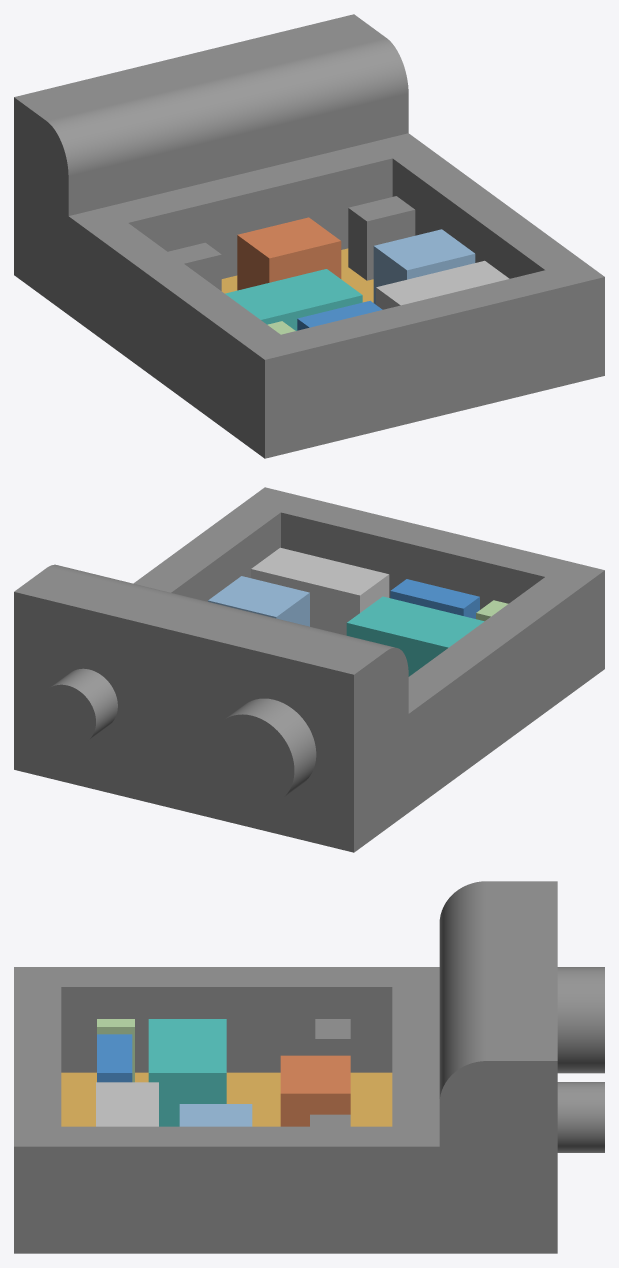
File: Control Panel.gltf
3 renders of one model, top to bottom at view 1: azimuth 30°, elevation 25°; view 2: azimuth 150°, elevation 25°; view 3: azimuth 270°, elevation 25°, orthographic. The views are drawn at different scales.
Visible parts, largest first — view 1: Part 1; view 2: Part 1; view 3: Part 1.
Part boxes in pixels (x1,y1,x2,y2): Part 1: [14, 14, 604, 458]; Part 1: [14, 487, 604, 852]; Part 1: [14, 881, 604, 1253].
Size of the model in its own units: 0.18 by 0.09 by 0.25.
